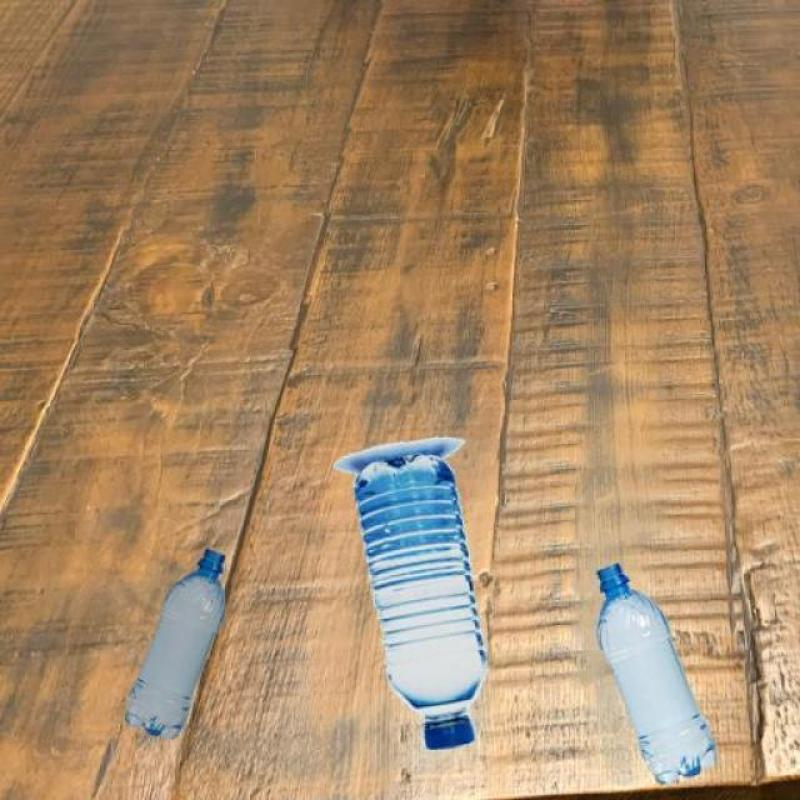botella: (356, 450, 489, 749), (598, 562, 718, 787), (124, 550, 234, 736)
